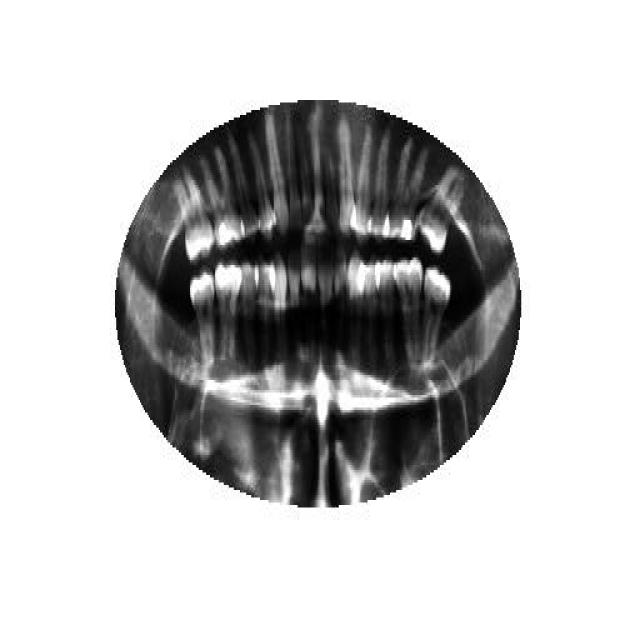Fillings: (202, 145, 242, 250), (385, 140, 425, 238)
